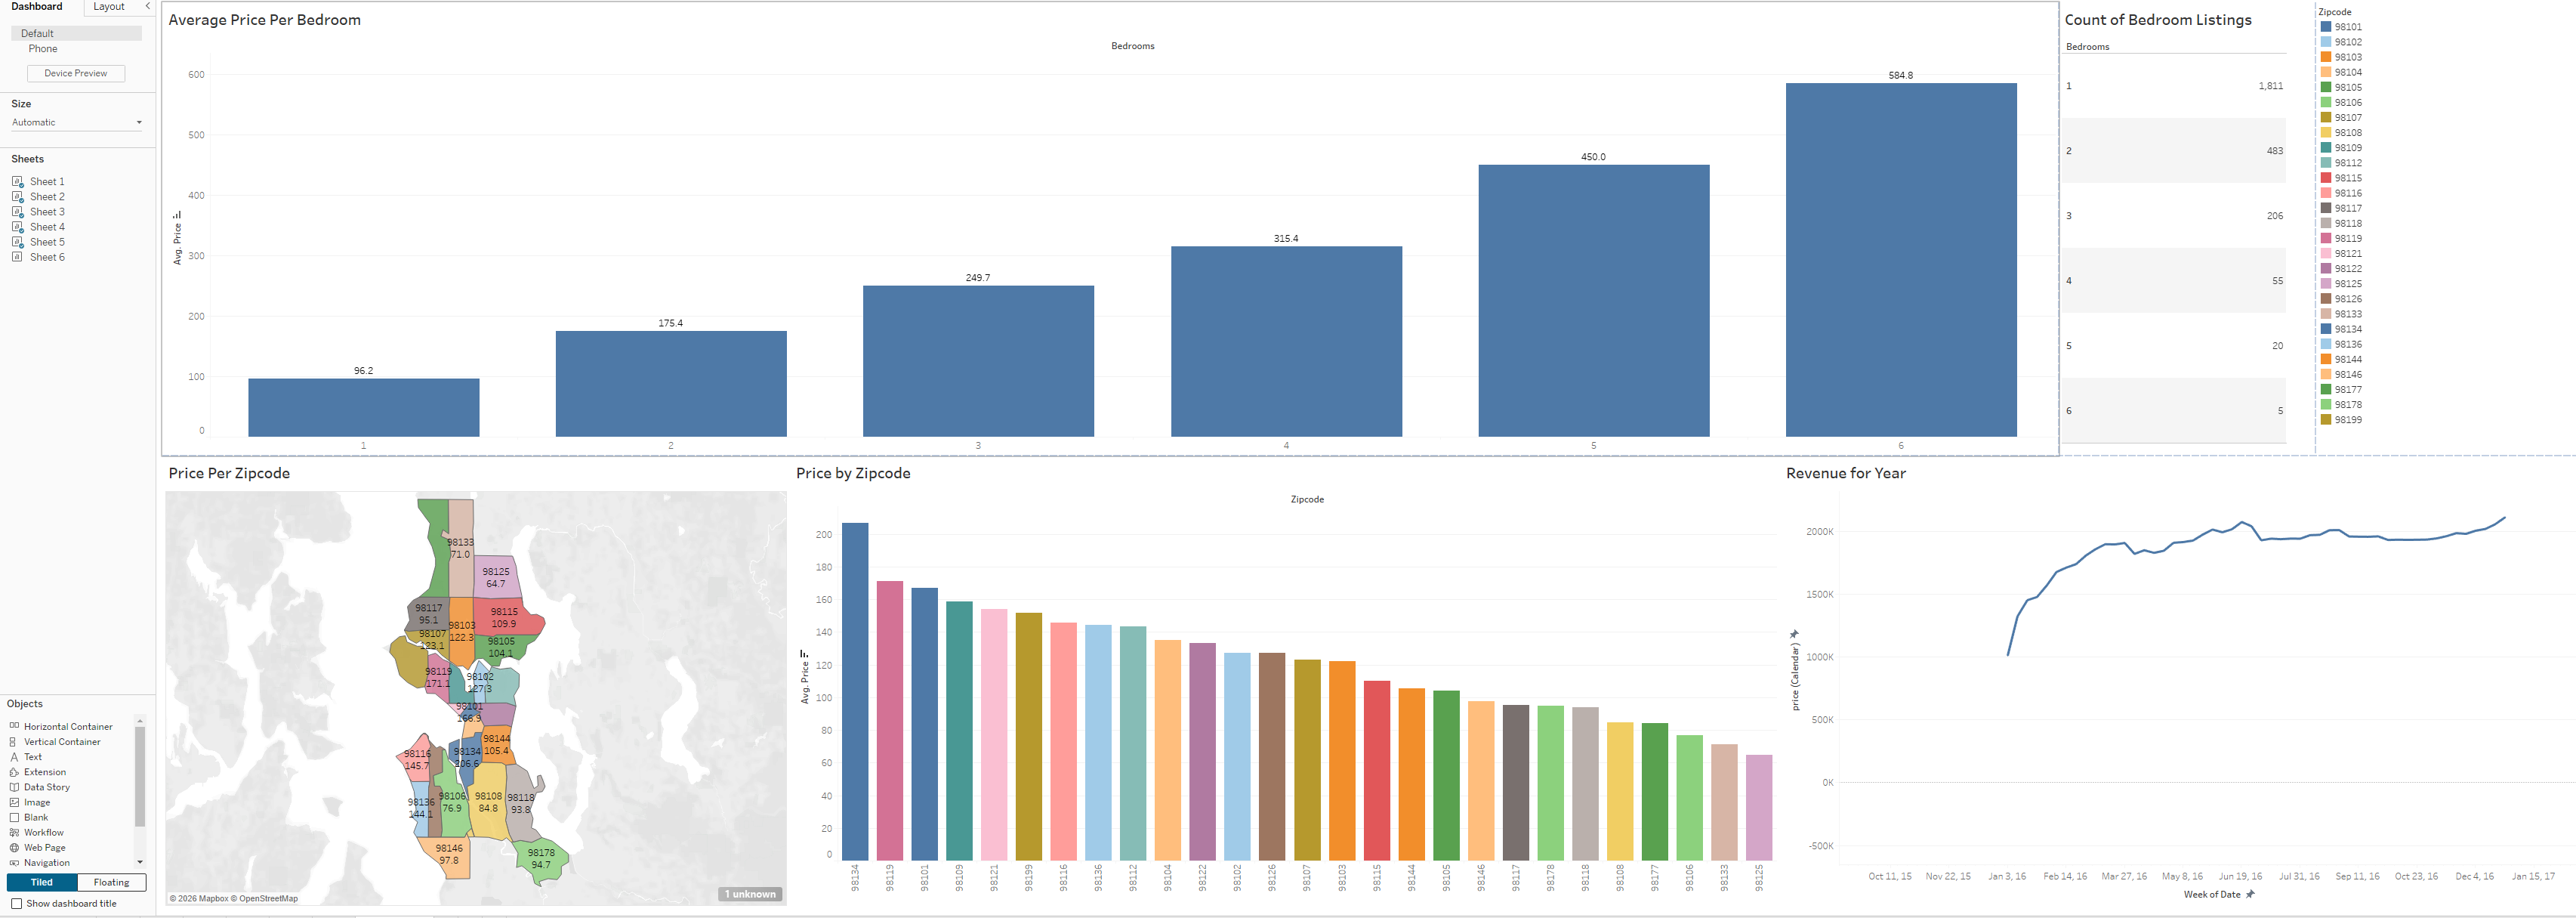

The page's visual inventory and layout, read from the dashboard file:
{"tool":"tableau","page":{"name":"Dashboard 1","canvas":[1000,1000],"units":"permille","ordinal":0},"visuals":[{"type":"worksheet","title":"Sheet 4","mark":"Automatic","rows":["price"],"cols":["bedrooms"],"box":[2.5,6.6,777.6,493.4]},{"type":"worksheet","title":"Sheet 5","mark":"Automatic","rows":["bedrooms"],"box":[780.1,6.6,105.3,493.4]},{"type":"legend","title":"Sheet 1","param":"[federated.03kuycv1o4d2ug1g6yq751niqshz].[none:zipcode:ok]","box":[885.4,6.6,112.1,493.4]},{"type":"worksheet","title":"Sheet 2","mark":"Multipolygon","box":[2.5,500,257.4,493.4]},{"type":"worksheet","title":"Sheet 1","mark":"Automatic","rows":["price"],"cols":["zipcode"],"box":[259.8,500,406,493.4]},{"type":"worksheet","title":"Sheet 3","mark":"Automatic","rows":["price (Calendar)"],"cols":["date"],"box":[665.8,500,331.7,493.4]}]}

Visuals, with their boxes on the dashboard's canvas, which has no fixed pixel size, in thousandths of its width and height (x1, y1, x2, y2). These are canvas units, not pixel positions in the 2576x918 screenshot, which may show the page scaled, cropped or inside an application window:
"Sheet 4" worksheet: Rect(2, 7, 780, 500)
"Sheet 5" worksheet: Rect(780, 7, 885, 500)
"Sheet 1" legend: Rect(885, 7, 998, 500)
"Sheet 2" worksheet (Multipolygon marks): Rect(2, 500, 260, 993)
"Sheet 1" worksheet: Rect(260, 500, 666, 993)
"Sheet 3" worksheet: Rect(666, 500, 998, 993)
